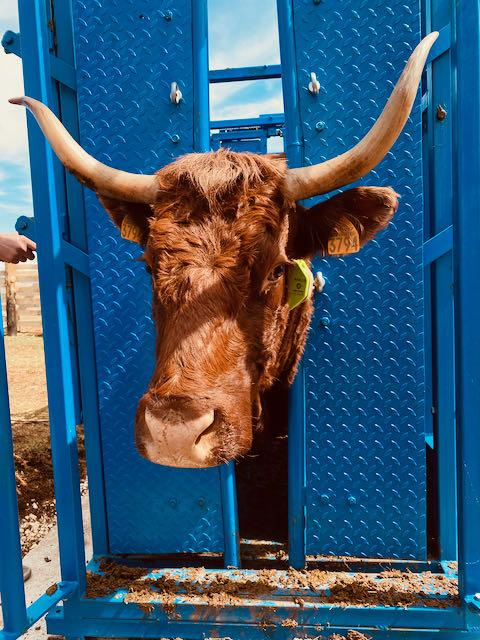muzzles: (125, 392, 262, 470)
